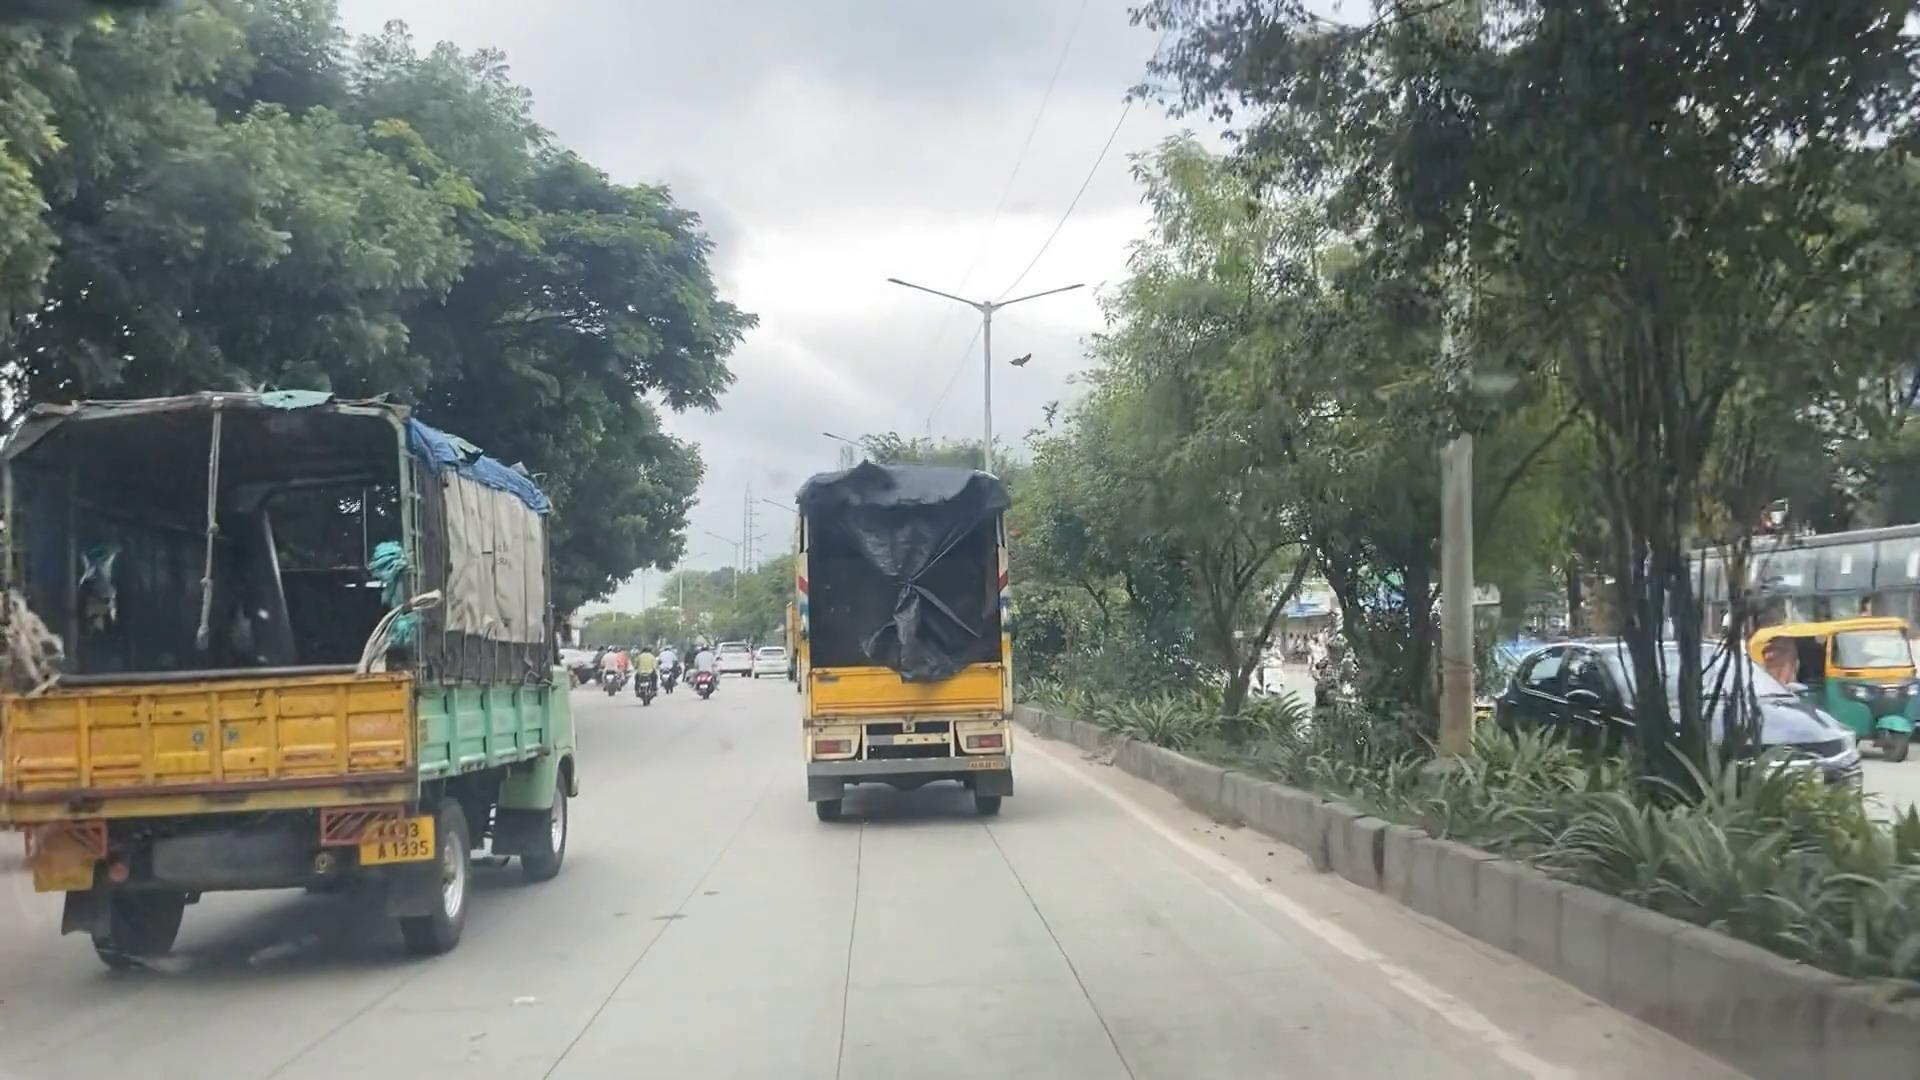HMV: (0, 380, 587, 997), (746, 381, 1046, 893)
